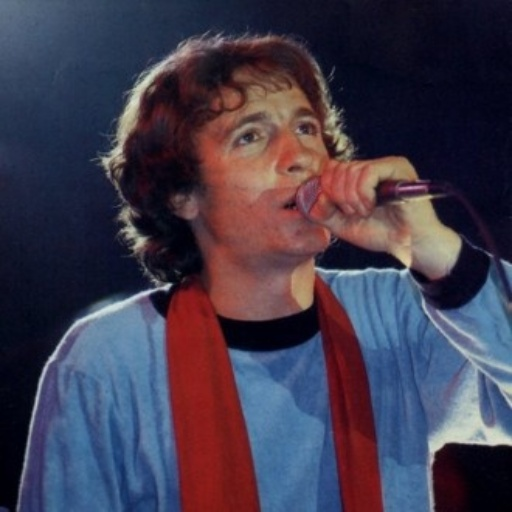hand: (305, 146, 460, 292)
